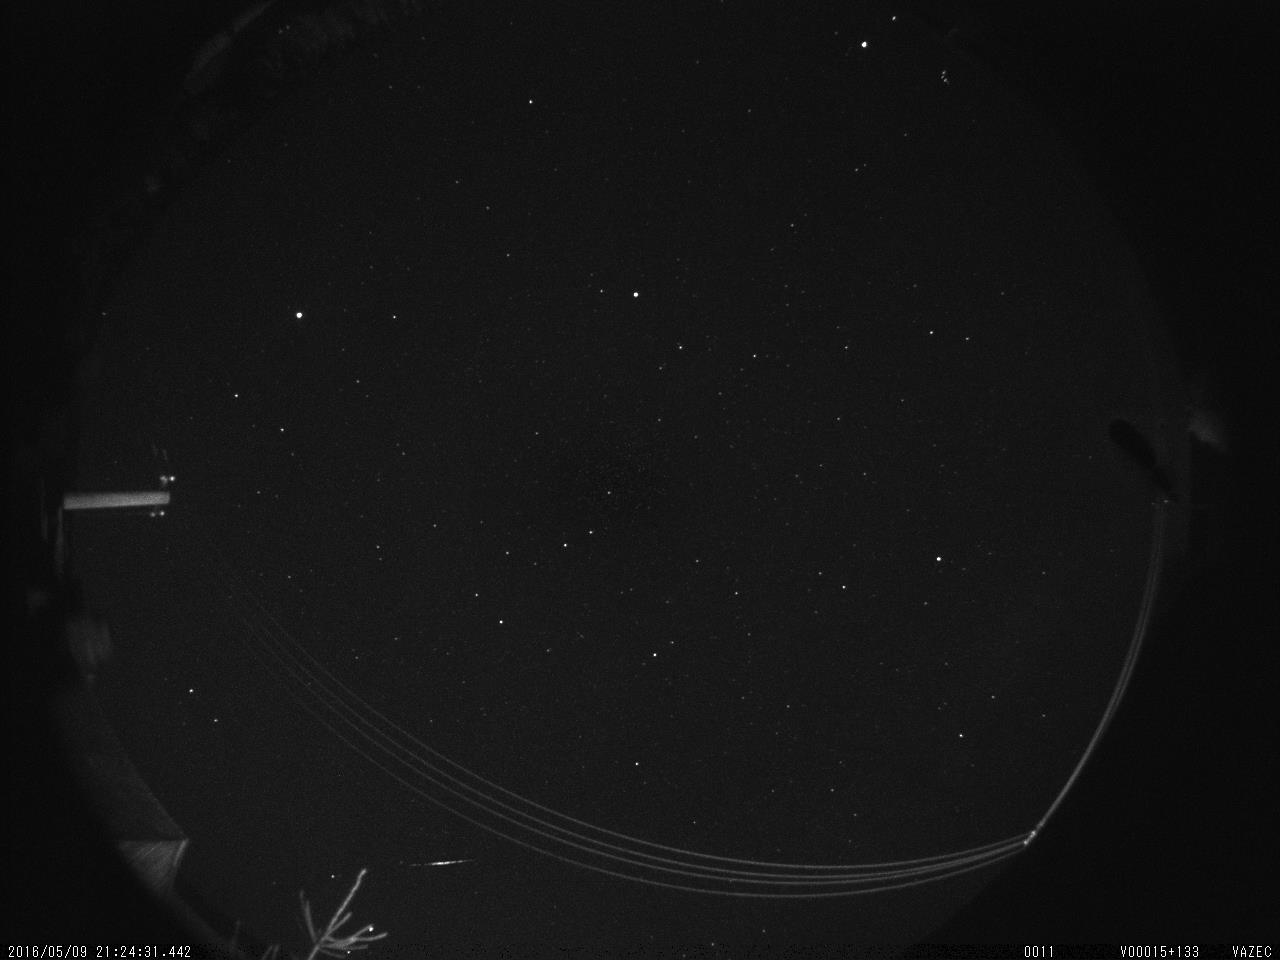meteor: (398, 849, 484, 880)
